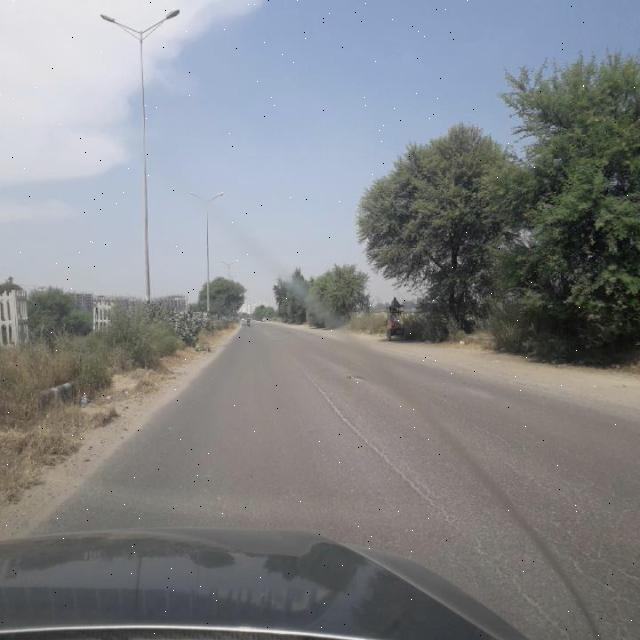D00: (301, 364, 448, 514), (478, 532, 566, 634)
D20: (534, 470, 638, 611)
D40: (346, 369, 372, 386)
